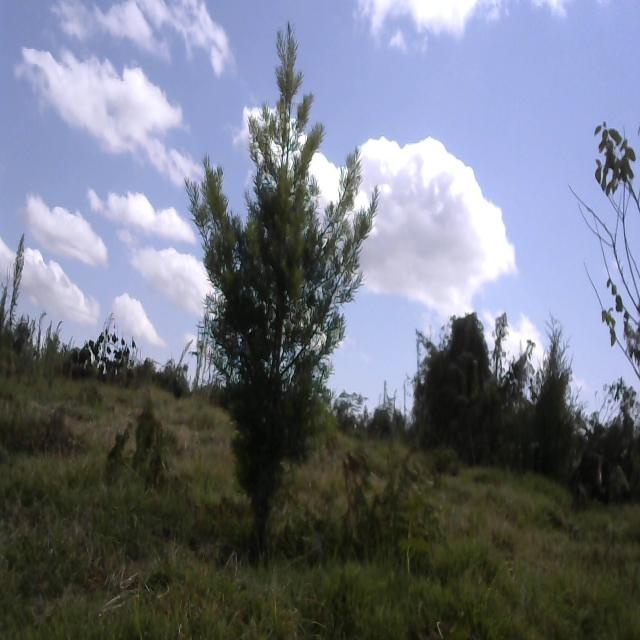Juniperus procesera: (533, 314, 585, 467)
Podocarpus falcatus: (184, 25, 383, 529)
